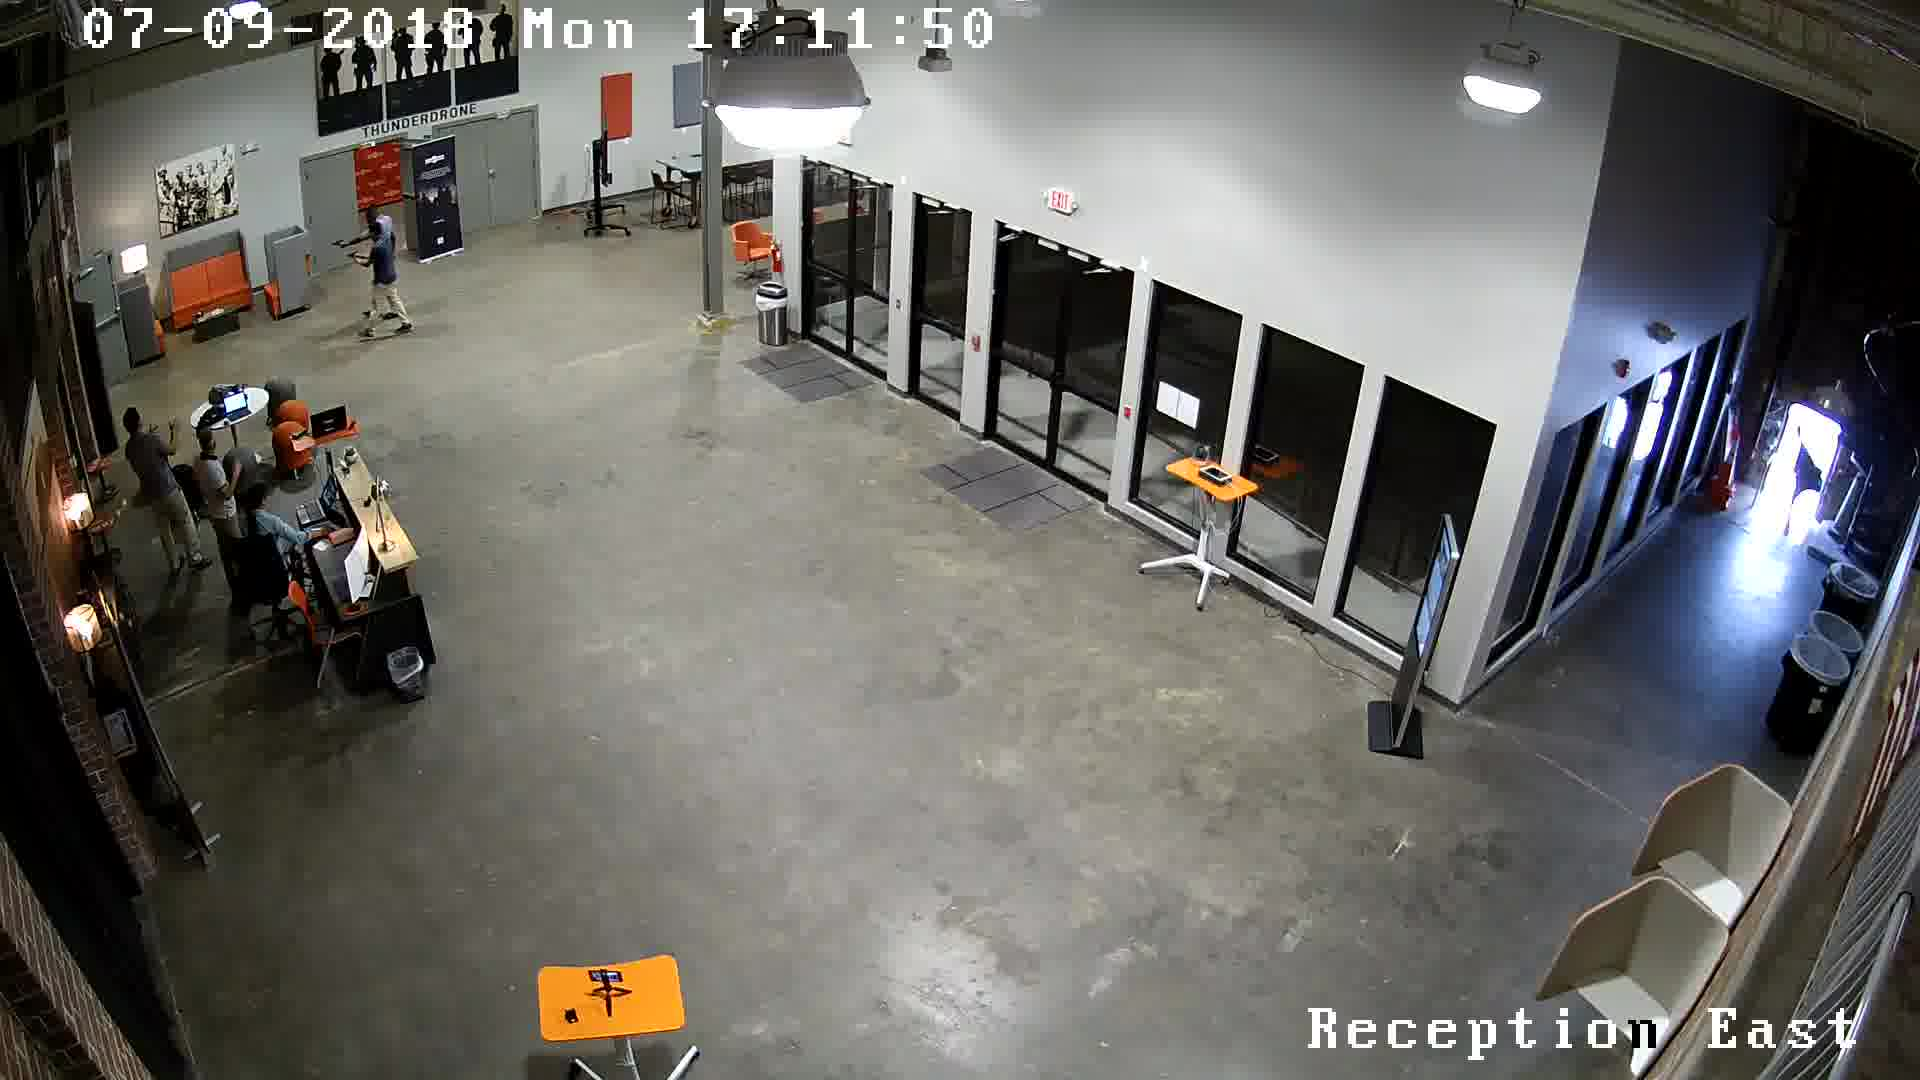pistol: (340, 251, 371, 272), (318, 237, 353, 255)
